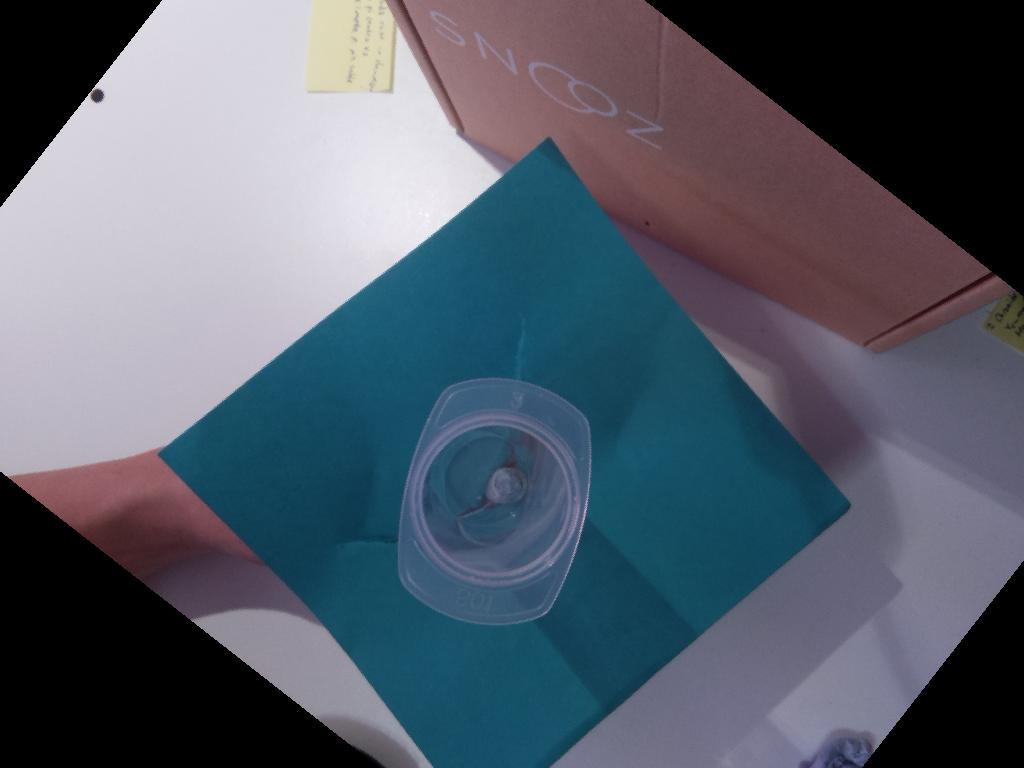clean: (396, 376, 595, 626)
